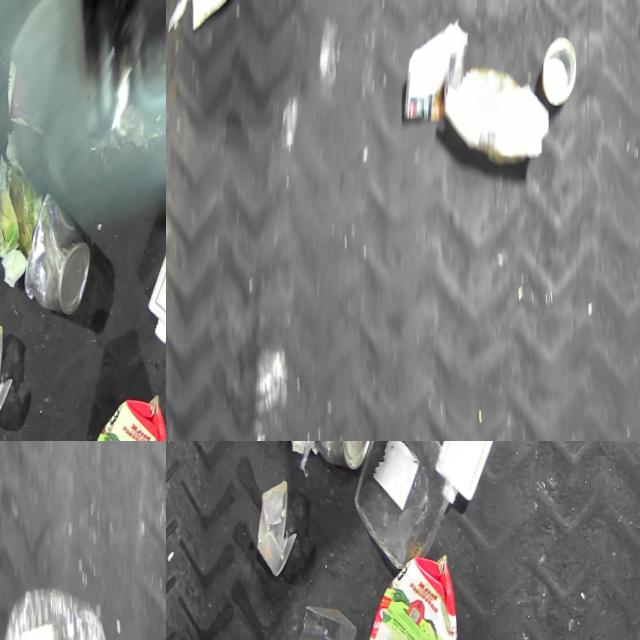can: (23, 189, 94, 315), (538, 35, 578, 108), (309, 441, 376, 467)
milk_jug: (431, 441, 518, 508)
non_white_jug: (359, 542, 462, 640), (77, 392, 166, 441)
plastic_bottle: (0, 577, 125, 640)
